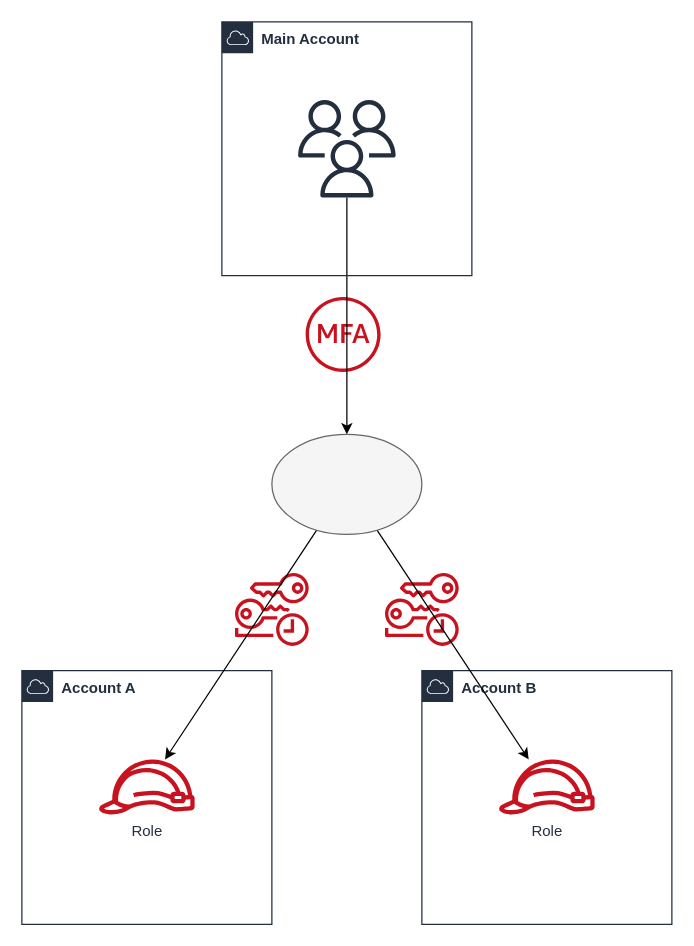
This 694x946 diagram has some shape labels left out. Here are the shapes that lost their labels. From the top down, the centre of each, then its label:
At point 346,148: "Users".
At point 346,483: "Session".
